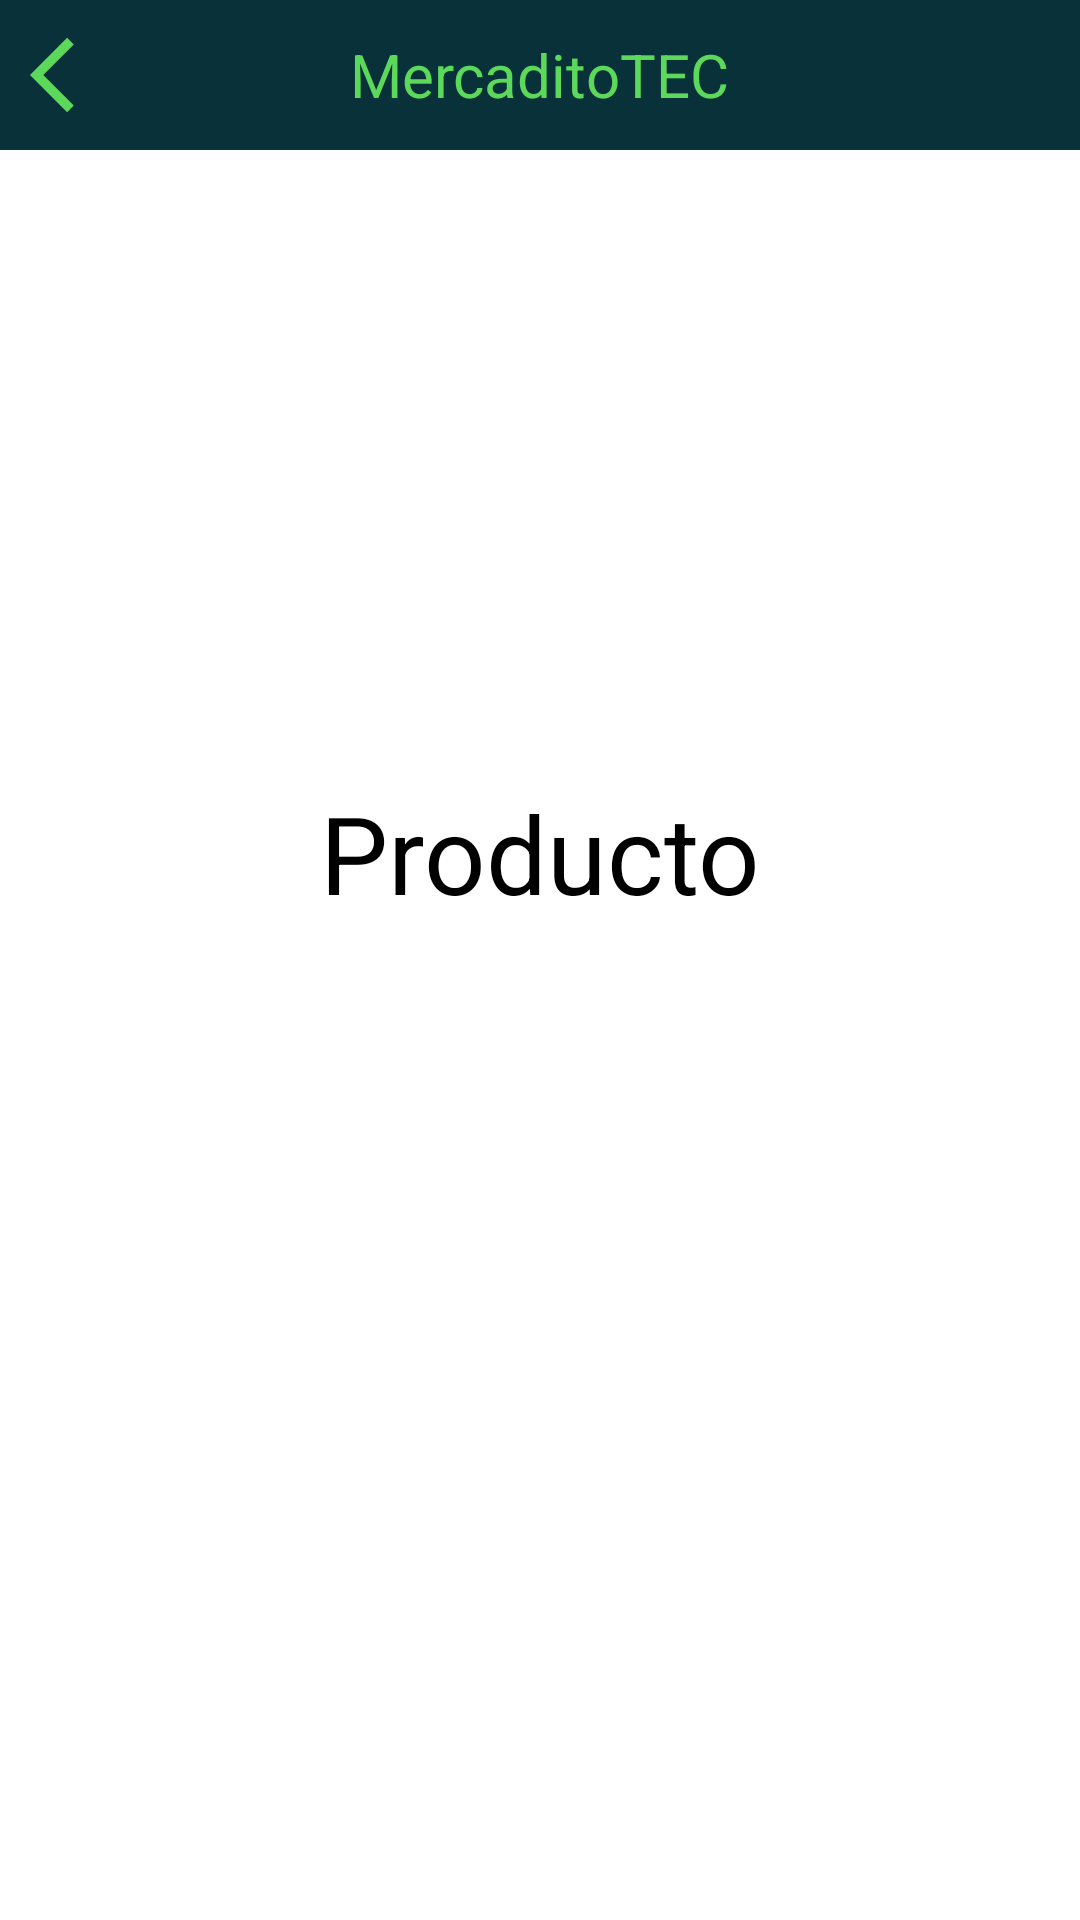

Where to tap for icons on this 1080×1920 app screen, as [x,y]:
arrow back: [52,75]
